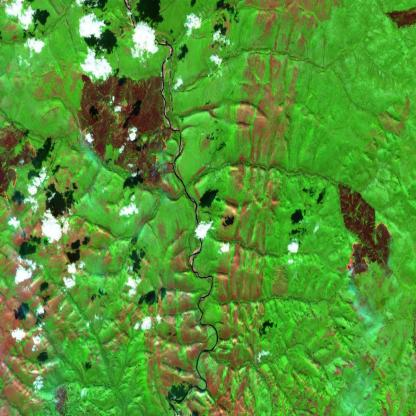fire: (136, 109, 185, 204), (71, 104, 91, 154)
